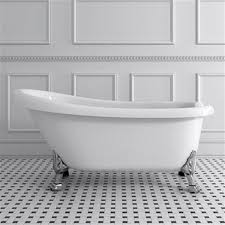bathub: (13, 88, 218, 195)
